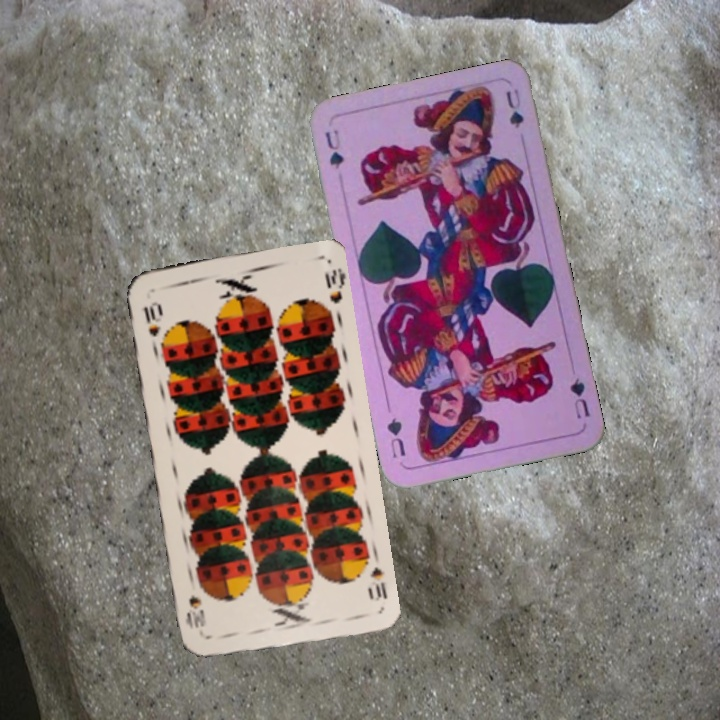GU: (565, 373, 593, 421), (321, 125, 347, 172)
S10: (364, 563, 390, 604), (139, 297, 163, 340)
